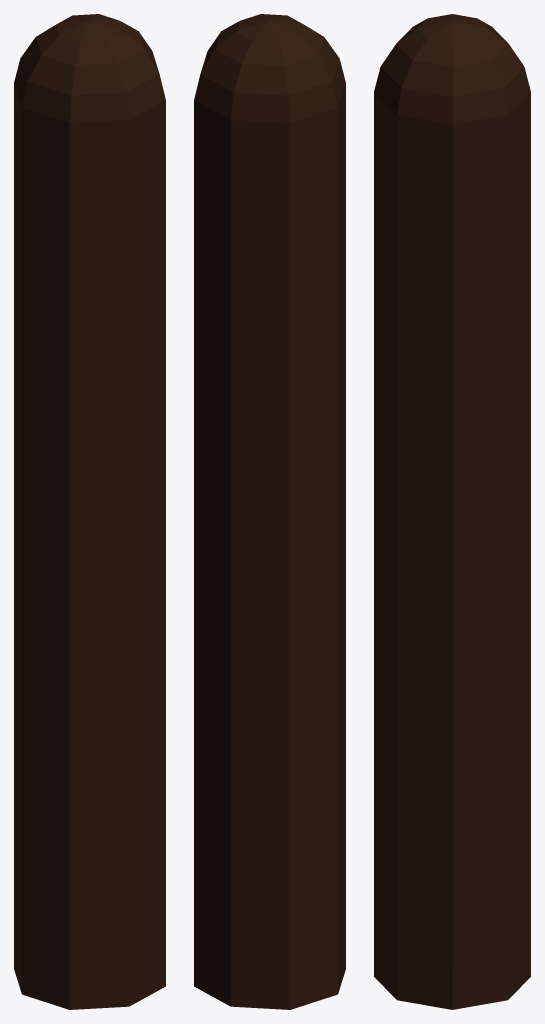
Rendered from branch_round.FBX.
The picture shows the model from 3 angles, left to right: view 1: azimuth 30°, elevation 25°; view 2: azimuth 150°, elevation 25°; view 3: azimuth 270°, elevation 25°; orthographic projection.
Visible parts, largest first — view 1: Cylinder010; view 2: Cylinder010; view 3: Cylinder010.
Part boxes in pixels (x1=…): Cylinder010: x1=14, y1=14, x2=165, y2=1009; Cylinder010: x1=194, y1=14, x2=345, y2=1009; Cylinder010: x1=374, y1=14, x2=530, y2=1009.
Bounding box in the file's own units: 4.76 × 32 × 4.76.
